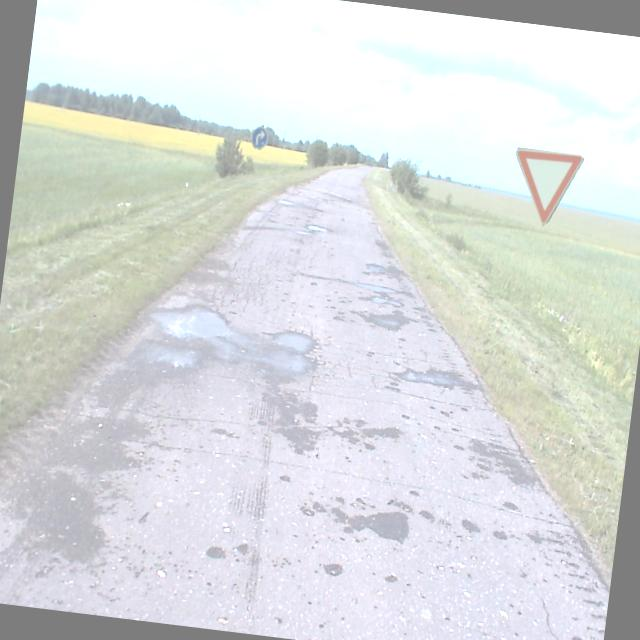road: (0, 165, 609, 640)
